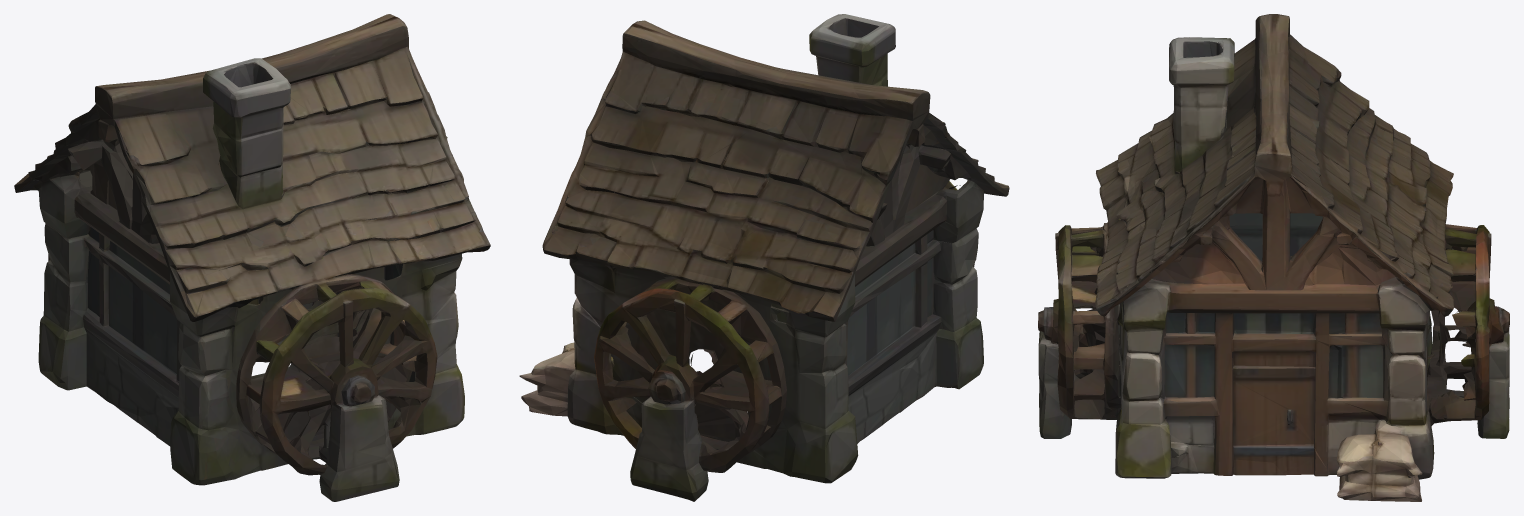
The model's file is millhouse.glb.
3 renders of one model, left to right at view 1: azimuth 30°, elevation 25°; view 2: azimuth 150°, elevation 25°; view 3: azimuth 270°, elevation 25°, orthographic. The views are drawn at different scales.
Parts seen in each view (by area): view 1: world; view 2: world; view 3: world.
Boxes of the visible parts, box(x1,y1,x2,y2) form: world: box(14, 14, 490, 501); world: box(519, 14, 1009, 501); world: box(1038, 14, 1509, 501).
Bounding box in the file's own units: 0.793 × 0.8442 × 0.9979.
Materials: 1 (1 with a texture image).
